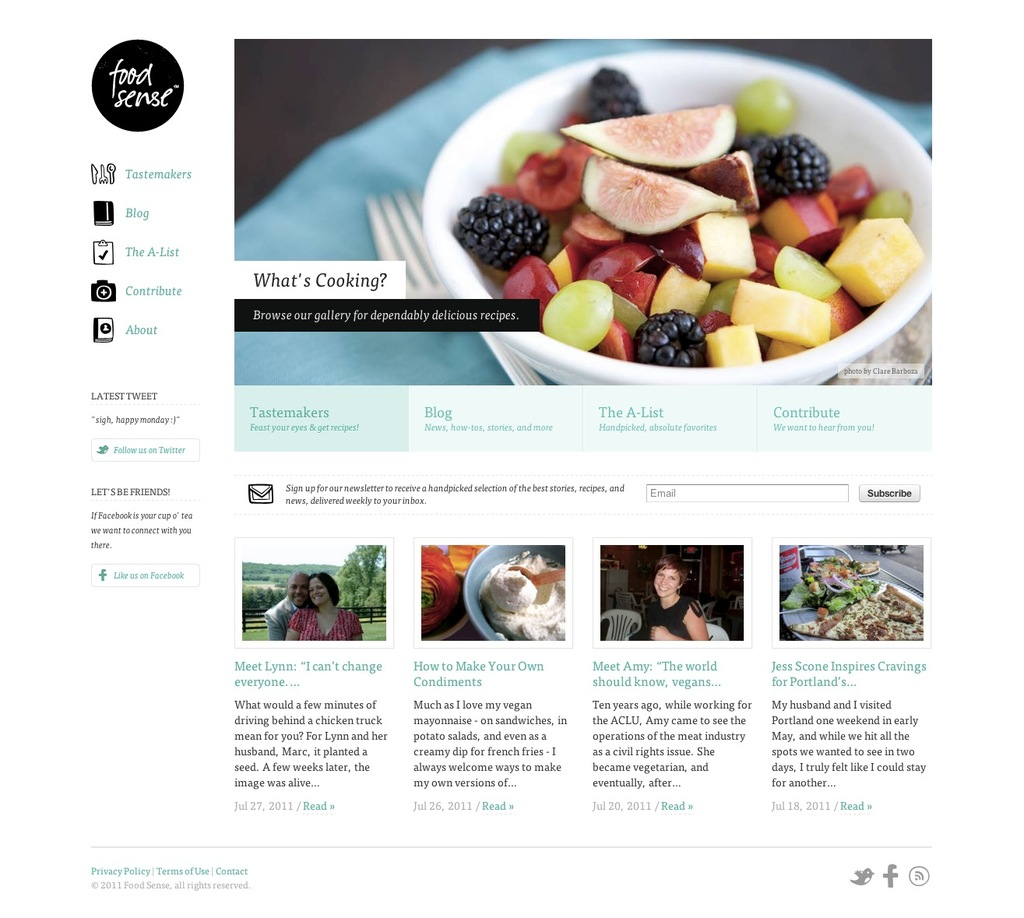salad: (458, 76, 938, 378)
